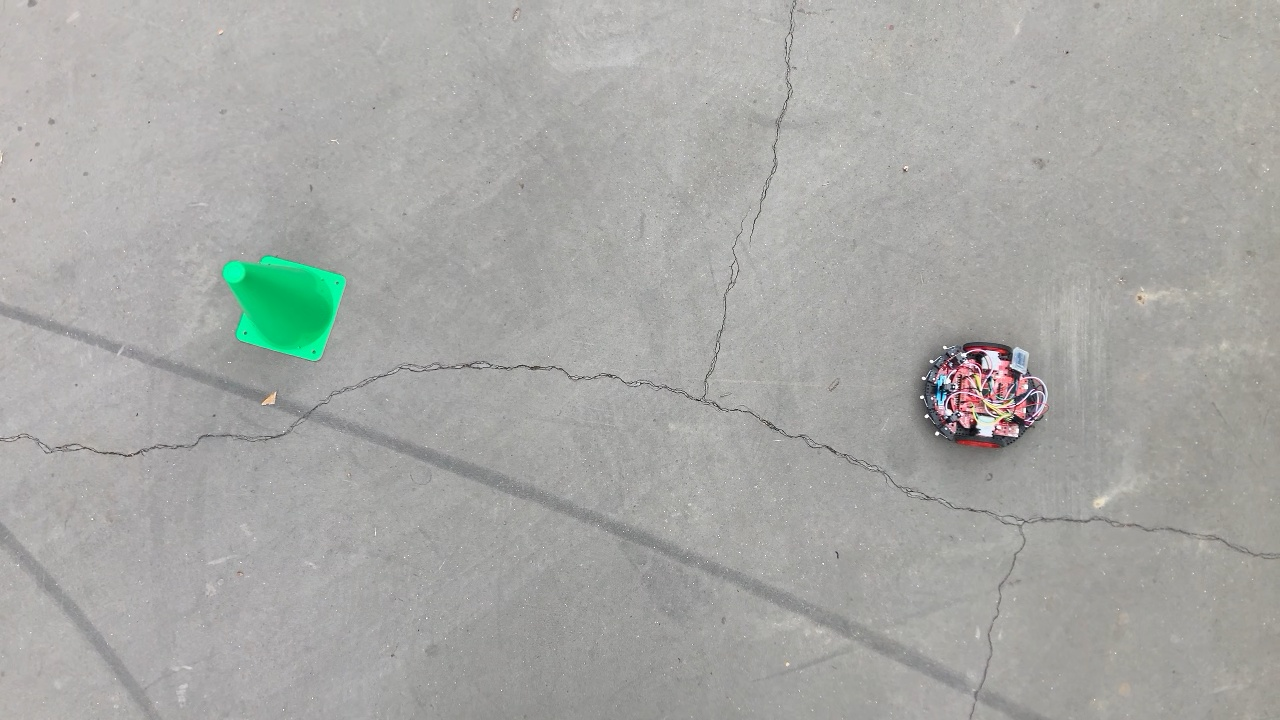green_cone: (220, 251, 351, 366)
robot: (914, 336, 1056, 456)
